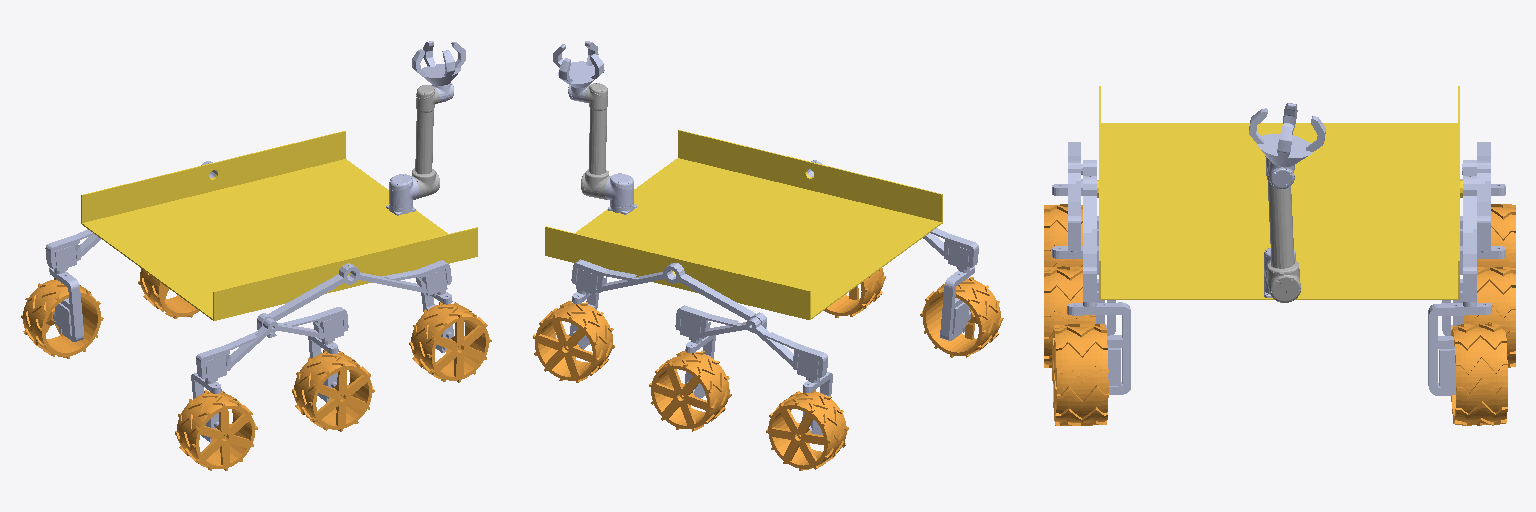
--- What the picture shows (computed from the rendered views, not written in the file) ---
The picture shows the robot from 3 angles, left to right: view 1: azimuth 30°, elevation 25°; view 2: azimuth 150°, elevation 25°; view 3: azimuth 270°, elevation 25°; orthographic projection.
Model vision1 with 18 links and 17 joints (5 revolute, 6 continuous, 6 fixed), rooted at dummylink, posed all joints at 0.
Visible links, largest first — view 1: chassis, right_front_wheel, right_back1, right_back2, right_back_legs, left_back2, right_main, left_back_legs, motor2, motor3, left_back1, motor1; view 2: chassis, left_front_wheel, left_back1, left_back2, left_back_legs, right_back2, left_main, right_back_legs, motor2, motor3, right_back1, motor1; view 3: chassis, right_front_wheel, left_front_wheel, motor2, motor3, left_back_legs, left_back1, right_back1, left_front_whlconnect, right_back_legs, right_front_whlconnect, right_main (+3 smaller).
Boxes of the visible links, bbox=[...] form: chassis: bbox=[81, 131, 477, 320]; right_front_wheel: bbox=[409, 302, 491, 382]; right_back1: bbox=[292, 350, 374, 431]; right_back2: bbox=[175, 390, 257, 470]; right_back_legs: bbox=[191, 307, 348, 442]; left_back2: bbox=[21, 278, 103, 358]; right_main: bbox=[257, 260, 451, 337]; left_back_legs: bbox=[45, 229, 100, 341]; motor2: bbox=[412, 85, 439, 199]; motor3: bbox=[412, 41, 465, 102]; left_back1: bbox=[138, 268, 198, 318]; motor1: bbox=[389, 174, 418, 208]; chassis: bbox=[545, 130, 942, 319]; left_front_wheel: bbox=[533, 301, 614, 382]; left_back1: bbox=[649, 351, 731, 431]; left_back2: bbox=[766, 390, 848, 470]; left_back_legs: bbox=[675, 305, 832, 434]; right_back2: bbox=[920, 277, 1003, 357]; left_main: bbox=[571, 259, 766, 333]; right_back_legs: bbox=[923, 228, 978, 340]; motor2: bbox=[581, 83, 609, 199]; motor3: bbox=[553, 41, 604, 102]; right_back1: bbox=[824, 268, 885, 317]; motor1: bbox=[605, 173, 633, 207]; chassis: bbox=[1097, 86, 1462, 299]; right_front_wheel: bbox=[1052, 324, 1108, 425]; left_front_wheel: bbox=[1451, 323, 1507, 425]; motor2: bbox=[1265, 156, 1300, 302]; motor3: bbox=[1249, 103, 1325, 188]; left_back_legs: bbox=[1442, 142, 1505, 335]; left_back1: bbox=[1464, 267, 1515, 367]; right_back1: bbox=[1044, 266, 1095, 367]; left_front_whlconnect: bbox=[1428, 303, 1491, 395]; right_back_legs: bbox=[1052, 142, 1115, 335]; right_front_whlconnect: bbox=[1067, 302, 1130, 394]; right_main: bbox=[1081, 160, 1096, 306].
Size in the robot's own frame: 3.27 by 2.73 by 2.5 metres.
17 mesh visuals loaded from 17 distinct referenced files (17 binary STL).

robot.urdf — vision1:
<?xml version="1.0" encoding="utf-8"?>
<!-- This URDF was automatically created by SolidWorks to URDF Exporter! Originally created by Stephen Brawner ([email redacted]) 
     Commit Version: 1.6.0-1-g15f4949  Build Version: 1.6.7594.29634
     For more information, please see http://wiki.ros.org/sw_urdf_exporter -->
<robot
  name="vision1">
  <link name="dummylink">
  </link>
  <joint name="dummyjoint" type="fixed">
    <parent link="dummylink"/>
    <child link="chassis"/>
  </joint>
  <link
    name="chassis">
    <inertial>
      <origin
        xyz="-6.67048457508904E-17 -9.65107136094099E-17 0.0301859526129163"
        rpy="0 0 0" />
      <mass
        value="75.3982945732463" />
      <inertia
        ixx="37.6875461543528"
        ixy="9.93243680911644E-16"
        ixz="-2.51115452539207E-15"
        iyy="36.4599738843757"
        iyz="1.69476198366275E-14"
        izz="73.6477332288632" />
    </inertial>
    <visual>
      <origin
        xyz="0 0 0"
        rpy="0 0 0" />
      <geometry>
        <mesh
          filename="package://vision1/meshes/chassis.STL" />
      </geometry>
      <material
        name="">
        <color
          rgba="1 0.886274509803922 0.309803921568627 1" />
      </material>
    </visual>
    <collision>
      <origin
        xyz="0 0 0"
        rpy="0 0 0" />
      <geometry>
        <mesh
          filename="package://vision1/meshes/chassis.STL" />
      </geometry>
    </collision>
  </link>
  <link
    name="left_main">
    <inertial>
      <origin
        xyz="-0.187587214227298 -0.193829326981754 0.103350542447008"
        rpy="0 0 0" />
      <mass
        value="11.5796588524314" />
      <inertia
        ixx="0.104962702548715"
        ixy="-0.23703186835524"
        ixz="0.0084157586236052"
        iyy="2.53477008510846"
        iyz="-0.000365251532953697"
        izz="2.62636682146623" />
    </inertial>
    <visual>
      <origin
        xyz="0 0 0"
        rpy="0 0 0" />
      <geometry>
        <mesh
          filename="package://vision1/meshes/left_main.STL" />
      </geometry>
      <material
        name="">
        <color
          rgba="0.792156862745098 0.819607843137255 0.933333333333333 1" />
      </material>
    </visual>
    <collision>
      <origin
        xyz="0 0 0"
        rpy="0 0 0" />
      <geometry>
        <mesh
          filename="package://vision1/meshes/left_main.STL" />
      </geometry>
    </collision>
  </link>
  <joint
    name="left_main_joint"
    type="fixed">
    <origin
      xyz="0 0.996 0.1527"
      rpy="1.5708 0.12191 -3.1416" />
    <parent
      link="chassis" />
    <child
      link="left_main" />
    <axis
      xyz="0 0 1" />
    
  </joint>
  <link
    name="left_front_whlconnect">
    <inertial>
      <origin
        xyz="0.0919368788373029 -0.303078537800269 2.97809443772223E-09"
        rpy="0 0 0" />
      <mass
        value="10.0922799476841" />
      <inertia
        ixx="0.180451958547416"
        ixy="0.021786782051187"
        ixz="1.11127781109166E-09"
        iyy="0.0734598583330053"
        iyz="5.98564580431109E-09"
        izz="0.239851150726298" />
    </inertial>
    <visual>
      <origin
        xyz="0 0 0"
        rpy="0 0 0" />
      <geometry>
        <mesh
          filename="package://vision1/meshes/left_front_whlconnect.STL" />
      </geometry>
      <material
        name="">
        <color
          rgba="0.792156862745098 0.819607843137255 0.933333333333333 1" />
      </material>
    </visual>
    <collision>
      <origin
        xyz="0 0 0"
        rpy="0 0 0" />
      <geometry>
        <mesh
          filename="package://vision1/meshes/left_front_whlconnect.STL" />
      </geometry>
    </collision>
  </link>
  <joint
    name="left_front_whlconnect_joint"
    type="revolute">
    <origin
      xyz="-0.7809 -0.46022 0.104"
      rpy="3.1416 1.5062 3.1416" />
    <parent
      link="left_main" />
    <child
      link="left_front_whlconnect" />
    <axis
      xyz="0 1 0" />
    <limit
      lower="-1.0"
      upper="1.0"
      effort="100"
      velocity="10" />
  </joint>
  <link
    name="left_front_wheel">
    <inertial>
      <origin
        xyz="-0.0726272967322998 2.22044604925031E-16 2.72004641033163E-14"
        rpy="0 0 0" />
      <mass
        value="24.6135816790046" />
      <inertia
        ixx="1.49233859783078"
        ixy="-5.42488484689407E-11"
        ixz="-5.59634307211593E-11"
        iyy="0.941453197285766"
        iyz="5.63490904327904E-14"
        izz="0.941453197282353" />
    </inertial>
    <visual>
      <origin
        xyz="0 0 0"
        rpy="0 0 0" />
      <geometry>
        <mesh
          filename="package://vision1/meshes/left_front_wheel.STL" />
      </geometry>
      <material
        name="">
        <color
          rgba="1 0.698039215686274 0.309803921568627 1" />
      </material>
    </visual>
    <collision>
      <origin
        xyz="0 0 0"
        rpy="0 0 0" />
      <geometry>
        <mesh
          filename="package://vision1/meshes/left_front_wheel.STL" />
      </geometry>
    </collision>
  </link>
  <joint
    name="left_front_wheel_joint"
    type="continuous">
    <origin
      xyz="0 -0.41728 0"
      rpy="1.6033 0 0" />
    <parent
      link="left_front_whlconnect" />
    <child
      link="left_front_wheel" />
    <axis
      xyz="-1 0 0" />
  </joint>
  <link
    name="left_back_legs">
    <inertial>
      <origin
        xyz="-0.0281794914958189 -0.437137445244157 -0.127486719946212"
        rpy="0 0 0" />
      <mass
        value="32.7717928965034" />
      <inertia
        ixx="0.528659762782787"
        ixy="-0.00168610358511945"
        ixz="-2.39425252627351E-09"
        iyy="1.30533722923111"
        iyz="0.0435729279584516"
        izz="1.55489620389252" />
    </inertial>
    <visual>
      <origin
        xyz="0 0 0"
        rpy="0 0 0" />
      <geometry>
        <mesh
          filename="package://vision1/meshes/left_back_legs.STL" />
      </geometry>
      <material
        name="">
        <color
          rgba="0.792156862745098 0.819607843137255 0.933333333333333 1" />
      </material>
    </visual>
    <collision>
      <origin
        xyz="0 0 0"
        rpy="0 0 0" />
      <geometry>
        <mesh
          filename="package://vision1/meshes/left_back_legs.STL" />
      </geometry>
    </collision>
  </link>
  <joint
    name="left_back_legs_joint"
    type="fixed">
    <origin
      xyz="0.787846202409768 -0.138918542133536 0"
      rpy="3.14159265358979 0 -3.11008088957071" />
    <parent
      link="left_main" />
    <child
      link="left_back_legs" />
    <axis
      xyz="0 0 1" />
    
  </joint>
  <link
    name="left_back1">
    <inertial>
      <origin
        xyz="-0.169127296732301 1.11022302462516E-15 -4.9293902293357E-14"
        rpy="0 0 0" />
      <mass
        value="24.6135816790047" />
      <inertia
        ixx="1.49233859783079"
        ixy="5.42400245263348E-11"
        ixz="5.59704961659011E-11"
        iyy="0.941453197285768"
        iyz="5.79536418854332E-14"
        izz="0.941453197282358" />
    </inertial>
    <visual>
      <origin
        xyz="0 0 0"
        rpy="0 0 0" />
      <geometry>
        <mesh
          filename="package://vision1/meshes/left_back1.STL" />
      </geometry>
      <material
        name="">
        <color
          rgba="1 0.698039215686274 0.309803921568627 1" />
      </material>
    </visual>
    <collision>
      <origin
        xyz="0 0 0"
        rpy="0 0 0" />
      <geometry>
        <mesh
          filename="package://vision1/meshes/left_back1.STL" />
      </geometry>
    </collision>
  </link>
  <joint
    name="left_back1_joint"
    type="continuous">
    <origin
      xyz="0.489099860471848 -0.73355703444109 -0.0675004913212019"
      rpy="0.550131778527197 -1.5707963267949 0" />
    <parent
      link="left_back_legs" />
    <child
      link="left_back1" />
    <axis
      xyz="-1 0 0" />
  </joint>
  <link
    name="left_back2">
    <inertial>
      <origin
        xyz="-0.1691272967323 4.10782519111308E-15 -2.66453525910038E-14"
        rpy="0 0 0" />
      <mass
        value="24.6135816790048" />
      <inertia
        ixx="1.49233859783079"
        ixy="4.33631821911831E-11"
        ixz="6.47740021097192E-11"
        iyy="0.941453197285644"
        iyz="6.52568277192955E-13"
        izz="0.941453197282488" />
    </inertial>
    <visual>
      <origin
        xyz="0 0 0"
        rpy="0 0 0" />
      <geometry>
        <mesh
          filename="package://vision1/meshes/left_back2.STL" />
      </geometry>
      <material
        name="">
        <color
          rgba="1 0.698039215686274 0.309803921568627 1" />
      </material>
    </visual>
    <collision>
      <origin
        xyz="0 0 0"
        rpy="0 0 0" />
      <geometry>
        <mesh
          filename="package://vision1/meshes/left_back2.STL" />
      </geometry>
    </collision>
  </link>
  <joint
    name="left_back2_joint"
    type="continuous">
    <origin
      xyz="-0.5789 -0.73356 -0.0675"
      rpy="0.18028 -1.5708 0" />
    <parent
      link="left_back_legs" />
    <child
      link="left_back2" />
    <axis
      xyz="-1 0 0" />
  </joint>
  <link
    name="right_main">
    <inertial>
      <origin
        xyz="-0.187587214227297 -0.193829326981754 -0.0406494575529919"
        rpy="0 0 0" />
      <mass
        value="11.5796588524314" />
      <inertia
        ixx="0.104962702548715"
        ixy="-0.23703186835524"
        ixz="0.00841575862360529"
        iyy="2.53477008510846"
        iyz="-0.000365251532953653"
        izz="2.62636682146623" />
    </inertial>
    <visual>
      <origin
        xyz="0 0 0"
        rpy="0 0 0" />
      <geometry>
        <mesh
          filename="package://vision1/meshes/right_main.STL" />
      </geometry>
      <material
        name="">
        <color
          rgba="0.792156862745098 0.819607843137255 0.933333333333333 1" />
      </material>
    </visual>
    <collision>
      <origin
        xyz="0 0 0"
        rpy="0 0 0" />
      <geometry>
        <mesh
          filename="package://vision1/meshes/right_main.STL" />
      </geometry>
    </collision>
  </link>
  <joint
    name="right_main_joint"
    type="fixed">
    <origin
      xyz="0 -1.06 0.152698331709587"
      rpy="1.5707963267949 0.121907833439833 -3.14159265358979" />
    <parent
      link="chassis" />
    <child
      link="right_main" />
    <axis
      xyz="0 0 -1" />
    <limit
      lower="0"
      upper="0.5"
      effort="100"
      velocity="10" />
  </joint>
  <link
    name="right_front_whlconnect">
    <inertial>
      <origin
        xyz="0.0919368788373003 -0.303078537800282 2.97808799842869E-09"
        rpy="0 0 0" />
      <mass
        value="10.0922799476844" />
      <inertia
        ixx="0.180451958547417"
        ixy="0.0217867820511865"
        ixz="1.1112765430088E-09"
        iyy="0.0734598583330069"
        iyz="5.98564286026851E-09"
        izz="0.2398511507263" />
    </inertial>
    <visual>
      <origin
        xyz="0 0 0"
        rpy="0 0 0" />
      <geometry>
        <mesh
          filename="package://vision1/meshes/right_front_whlconnect.STL" />
      </geometry>
      <material
        name="">
        <color
          rgba="0.792156862745098 0.819607843137255 0.933333333333333 1" />
      </material>
    </visual>
    <collision>
      <origin
        xyz="0 0 0"
        rpy="0 0 0" />
      <geometry>
        <mesh
          filename="package://vision1/meshes/right_front_whlconnect.STL" />
      </geometry>
    </collision>
  </link>
  <joint
    name="right_front_whlconnect_joint"
    type="revolute">
    <origin
      xyz="-0.780900139528152 -0.460215775817232 -0.0400004913212026"
      rpy="0 -1.52350221998585 0" />
    <parent
      link="right_main" />
    <child
      link="right_front_whlconnect" />
    <axis
      xyz="0 1 0" />
    <limit
      lower="-1.0"
      upper="1.0"
      effort="100"
      velocity="10" />
  </joint>
  <link
    name="right_front_wheel">
    <inertial>
      <origin
        xyz="-0.072627296732299 1.11022302462516E-15 2.81025203108243E-14"
        rpy="0 0 0" />
      <mass
        value="24.6135816790047" />
      <inertia
        ixx="1.49233859783079"
        ixy="-5.42478666154533E-11"
        ixz="-5.59715190862065E-11"
        iyy="0.94145319728577"
        iyz="5.77471013715747E-14"
        izz="0.941453197282356" />
    </inertial>
    <visual>
      <origin
        xyz="0 0 0"
        rpy="0 0 0" />
      <geometry>
        <mesh
          filename="package://vision1/meshes/right_front_wheel.STL" />
      </geometry>
      <material
        name="">
        <color
          rgba="1 0.698039215686274 0.309803921568627 1" />
      </material>
    </visual>
    <collision>
      <origin
        xyz="0 0 0"
        rpy="0 0 0" />
      <geometry>
        <mesh
          filename="package://vision1/meshes/right_front_wheel.STL" />
      </geometry>
    </collision>
  </link>
  <joint
    name="right_front_wheel_joint"
    type="continuous">
    <origin
      xyz="0 -0.417276705070479 0"
      rpy="-0.91003225529218 0 0" />
    <parent
      link="right_front_whlconnect" />
    <child
      link="right_front_wheel" />
    <axis
      xyz="1 0 0" />
  </joint>
  <link
    name="right_back_legs">
    <inertial>
      <origin
        xyz="-0.0281794878273326 -0.437137445244157 0.0712631174309957"
        rpy="0 0 0" />
      <mass
        value="32.7717928965034" />
      <inertia
        ixx="0.528659762782786"
        ixy="-0.0016860796425448"
        ixz="-2.39425198417242E-09"
        iyy="1.3053372292311"
        iyz="-0.0435742002462945"
        izz="1.55489620389252" />
    </inertial>
    <visual>
      <origin
        xyz="0 0 0"
        rpy="0 0 0" />
      <geometry>
        <mesh
          filename="package://vision1/meshes/right_back_legs.STL" />
      </geometry>
      <material
        name="">
        <color
          rgba="0.792156862745098 0.819607843137255 0.933333333333333 1" />
      </material>
    </visual>
    <collision>
      <origin
        xyz="0 0 0"
        rpy="0 0 0" />
      <geometry>
        <mesh
          filename="package://vision1/meshes/right_back_legs.STL" />
      </geometry>
    </collision>
  </link>
  <joint
    name="right_back_legs_joint"
    type="fixed">
    <origin
      xyz="0.787846202409768 -0.138918542133536 0"
      rpy="3.14159265358979 0 -3.11008088957079" />
    <parent
      link="right_main" />
    <child
      link="right_back_legs" />
    <axis
      xyz="0 0 1" />
    
  </joint>
  <link
    name="right_back1">
    <inertial>
      <origin
        xyz="-0.169127296732299 -1.15463194561016E-14 3.37507799486048E-14"
        rpy="0 0 0" />
      <mass
        value="24.6135816790047" />
      <inertia
        ixx="1.49233859783079"
        ixy="-5.42406314479416E-11"
        ixz="-5.59701606763816E-11"
        iyy="0.941453197285769"
        iyz="5.6621374255883E-14"
        izz="0.941453197282355" />
    </inertial>
    <visual>
      <origin
        xyz="0 0 0"
        rpy="0 0 0" />
      <geometry>
        <mesh
          filename="package://vision1/meshes/right_back1.STL" />
      </geometry>
      <material
        name="">
        <color
          rgba="1 0.698039215686274 0.309803921568627 1" />
      </material>
    </visual>
    <collision>
      <origin
        xyz="0 0 0"
        rpy="0 0 0" />
      <geometry>
        <mesh
          filename="package://vision1/meshes/right_back1.STL" />
      </geometry>
    </collision>
  </link>
  <joint
    name="right_back1_joint"
    type="continuous">
    <origin
      xyz="0.489099860471849 -0.733557034441089 0.00149950867879678"
      rpy="1.16753517553023 1.5707963267949 0" />
    <parent
      link="right_back_legs" />
    <child
      link="right_back1" />
    <axis
      xyz="1 0 0" />
  </joint>
  <link
    name="right_back2">
    <inertial>
      <origin
        xyz="-0.1691272967323 1.85422410758918E-09 7.76871900143306E-11"
        rpy="0 0 0" />
      <mass
        value="24.6135816790047" />
      <inertia
        ixx="1.49233859783079"
        ixy="-6.09386535568011E-09"
        ixz="-3.08930789097044E-10"
        iyy="0.941453197285773"
        iyz="5.94533361530391E-14"
        izz="0.941453197282358" />
    </inertial>
    <visual>
      <origin
        xyz="0 0 0"
        rpy="0 0 0" />
      <geometry>
        <mesh
          filename="package://vision1/meshes/right_back2.STL" />
      </geometry>
      <material
        name="">
        <color
          rgba="1 0.698039215686274 0.309803921568627 1" />
      </material>
    </visual>
    <collision>
      <origin
        xyz="0 0 0"
        rpy="0 0 0" />
      <geometry>
        <mesh
          filename="package://vision1/meshes/right_back2.STL" />
      </geometry>
    </collision>
  </link>
  <joint
    name="right_back2_joint"
    type="continuous">
    <origin
      xyz="-0.578900139528151 -0.73355703444109 0.00149950867879678"
      rpy="0.0499724498475259 1.5707963267949 0" />
    <parent
      link="right_back_legs" />
    <child
      link="right_back2" />
    <axis
      xyz="1 0 0" />
  </joint>
  <link
    name="manipulator_base">
    <inertial>
      <origin
        xyz="6.99102964922223E-06 0.0184354408078916 0.000159353466286261"
        rpy="0 0 0" />
      <mass
        value="1.37953968759469" />
      <inertia
        ixx="0.0035265384613163"
        ixy="2.40342098945956E-07"
        ixz="-1.46510077494015E-07"
        iyy="0.00649710141935057"
        iyz="-6.08962678355607E-07"
        izz="0.00349684266480233" />
    </inertial>
    <visual>
      <origin
        xyz="0 0 0"
        rpy="0 0 0" />
      <geometry>
        <mesh
          filename="package://vision1/meshes/manipulator_base.STL" />
      </geometry>
      <material
        name="">
        <color
          rgba="0.792156862745098 0.819607843137255 0.933333333333333 1" />
      </material>
    </visual>
    <collision>
      <origin
        xyz="0 0 0"
        rpy="0 0 0" />
      <geometry>
        <mesh
          filename="package://vision1/meshes/manipulator_base.STL" />
      </geometry>
    </collision>
  </link>
  <joint
    name="manipulator_base_joint"
    type="fixed">
    <origin
      xyz="1.10476444145715 0 0.0173071919115596"
      rpy="1.5707963267949 0 1.5707963267949" />
    <parent
      link="chassis" />
    <child
      link="manipulator_base" />
    <axis
      xyz="0 0 0" />
  </joint>
  <link
    name="motor1">
    <inertial>
      <origin
        xyz="3.29536758787718E-06 0.130986521289339 -0.0144792084589447"
        rpy="0 0 0" />
      <mass
        value="6.00302462460103" />
      <inertia
        ixx="0.035025387809049"
        ixy="-3.04848720836574E-06"
        ixz="6.90689798253695E-07"
        iyy="0.0308829833133846"
        iyz="0.0026200542648932"
        izz="0.0327045356190031" />
    </inertial>
    <visual>
      <origin
        xyz="0 0 0"
        rpy="0 0 0" />
      <geometry>
        <mesh
          filename="package://vision1/meshes/motor1.STL" />
      </geometry>
      <material
        name="">
        <color
          rgba="0.792156862745098 0.819607843137255 0.933333333333333 1" />
      </material>
    </visual>
    <collision>
      <origin
        xyz="0 0 0"
        rpy="0 0 0" />
      <geometry>
        <mesh
          filename="package://vision1/meshes/motor1.STL" />
      </geometry>
    </collision>
  </link>
  <joint
    name="motor1_joint"
    type="revolute">
    <origin
      xyz="0 0.01 0"
      rpy="3.14159265358979 -0.107234786070816 3.14159265358979" />
    <parent
      link="manipulator_base" />
    <child
      link="motor1" />
    <axis
      xyz="0 1 0" />
    <limit
      lower="-3.14"
      upper="3.14"
      effort="100"
      velocity="10" />
  </joint>
  <link
    name="motor2">
    <inertial>
      <origin
        xyz="0.0993313193322516 0.301282797125642 -0.0888744458903575"
        rpy="0 0 0" />
      <mass
        value="17.0164903741412" />
      <inertia
        ixx="0.289942203754201"
        ixy="0.00274423220260284"
        ixz="-0.000215137998023459"
        iyy="0.0751805407800863"
        iyz="0.0566445339756234"
        izz="0.279895917847063" />
    </inertial>
    <visual>
      <origin
        xyz="0 0 0"
        rpy="0 0 0" />
      <geometry>
        <mesh
          filename="package://vision1/meshes/motor2.STL" />
      </geometry>
      <material
        name="">
        <color
          rgba="0.752941176470588 0.752941176470588 0.752941176470588 1" />
      </material>
    </visual>
    <collision>
      <origin
        xyz="0 0 0"
        rpy="0 0 0" />
      <geometry>
        <mesh
          filename="package://vision1/meshes/motor2.STL" />
      </geometry>
    </collision>
  </link>
  <joint
    name="motor2_joint"
    type="revolute">
    <origin
      xyz="0 0.14251 -0.10664"
      rpy="0 1.4636 -0.2937" />
    <parent
      link="motor1" />
    <child
      link="motor2" />
    <axis
      xyz="0.99426 0 -0.10703" />
    <limit
      lower="-3.14"
      upper="3.14"
      effort="100"
      velocity="10" />
  </joint>
  <link
    name="motor3">
    <inertial>
      <origin
        xyz="2.50985222405298E-06 0.14601062513625 0.162369115763925"
        rpy="0 0 0" />
      <mass
        value="9.59690667249651" />
      <inertia
        ixx="0.169816438571014"
        ixy="3.26085813121685E-06"
        ixz="1.00534544886233E-06"
        iyy="0.130137949611244"
        iyz="-0.0027332362396029"
        izz="0.169565077733242" />
    </inertial>
    <visual>
      <origin
        xyz="0 0 0"
        rpy="0 0 0" />
      <geometry>
        <mesh
          filename="package://vision1/meshes/motor3.STL" />
      </geometry>
      <material
        name="">
        <color
          rgba="0.792156862745098 0.819607843137255 0.933333333333333 1" />
      </material>
    </visual>
    <collision>
      <origin
        xyz="0 0 0"
        rpy="0 0 0" />
      <geometry>
        <mesh
          filename="package://vision1/meshes/motor3.STL" />
      </geometry>
    </collision>
  </link>
  <joint
    name="motor3_joint"
    type="revolute">
    <origin
      xyz="0.081311 0.74119 -0.20118"
      rpy="-1.8069 1.1343 -1.7834" />
    <parent
      link="motor2" />
    <child
      link="motor3" />
    <axis
      xyz="0 0 1" />
    <limit
      lower="-3.14"
      upper="3.14"
      effort="100"
      velocity="10" />
  </joint>
  <transmission name="simple_trans1">
    <type>transmission_interface/SimpleTransmission</type>
    <joint name="right_front_whlconnect_joint">
      <hardwareInterface>EffortJointInterface</hardwareInterface>
    </joint>
    <actuator name="right_front_whlconnect_act">
      <mechanicalReduction>50</mechanicalReduction>
      <hardwareInterface>EffortJointInterface</hardwareInterface>
    </actuator>
  </transmission>
  
  <transmission name="simple_trans2">
    <type>transmission_interface/SimpleTransmission</type>
    <joint name="right_back1_joint">
      <hardwareInterface>VelocityJointInterface</hardwareInterface>
    </joint>
    <actuator name="right_back1_act">
      <mechanicalReduction>50</mechanicalReduction>
      <hardwareInterface>VelocityJointInterface</hardwareInterface>
    </actuator>
  </transmission>
 
  
 
  
  <transmission name="simple_trans3">
    <type>transmission_interface/SimpleTransmission</type>
    <joint name="right_back2_joint">
      <hardwareInterface>VelocityJointInterface</hardwareInterface>
    </joint>
    <actuator name="right_back2_act">
      <mechanicalReduction>50</mechanicalReduction>
      <hardwareInterface>VelocityJointInterface</hardwareInterface>
    </actuator>
  </transmission>
  
  
  
  <transmission name="simple_trans4">
    <type>transmission_interface/SimpleTransmission</type>
    <joint name="left_front_whlconnect_joint">
      <hardwareInterface>EffortJointInterface</hardwareInterface>
    </joint>
    <actuator name="left_front_whlconnect_act">
      <mechanicalReduction>50</mechanicalReduction>
      <hardwareInterface>EffortJointInterface</hardwareInterface>
    </actuator>
  </transmission>
  
  <transmission name="simple_trans5">
    <type>transmission_interface/SimpleTransmission</type>
    <joint name="left_back1_joint">
      <hardwareInterface>VelocityJointInterface</hardwareInterface>
    </joint>
    <actuator name="left_back1_act">
      <mechanicalReduction>50</mechanicalReduction>
      <hardwareInterface>VelocityJointInterface</hardwareInterface>
    </actuator>
  </transmission>
 
  
  <transmission name="simple_trans6">
    <type>transmission_interface/SimpleTransmission</type>
    <joint name="left_back2_joint">
      <hardwareInterface>VelocityJointInterface</hardwareInterface>
    </joint>
    <actuator name="left_back2_act">
      <mechanicalReduction>50</mechanicalReduction>
      <hardwareInterface>VelocityJointInterface</hardwareInterface>
    </actuator>
  </transmission>
  
  <transmission name="simple_trans9">
    <type>transmission_interface/SimpleTransmission</type>
    <joint name="motor1_joint">
      <hardwareInterface>EffortJointInterface</hardwareInterface>
    </joint>
    <actuator name="motor1_act">
      <mechanicalReduction>50</mechanicalReduction>
      <hardwareInterface>EffortJointInterface</hardwareInterface>
    </actuator>
  </transmission>
  <transmission name="simple_trans10">
    <type>transmission_interface/SimpleTransmission</type>
    <joint name="motor2_joint">
      <hardwareInterface>EffortJointInterface</hardwareInterface>
    </joint>
    <actuator name="motor2_act">
      <mechanicalReduction>50</mechanicalReduction>
      <hardwareInterface>EffortJointInterface</hardwareInterface>
    </actuator>
  </transmission>
 
  
  <transmission name="simple_trans11">
    <type>transmission_interface/SimpleTransmission</type>
    <joint name="motor3_joint">
      <hardwareInterface>EffortJointInterface</hardwareInterface>
    </joint>
    <actuator name="motor3_act">
      <mechanicalReduction>50</mechanicalReduction>
      <hardwareInterface>EffortJointInterface</hardwareInterface>
    </actuator>
  </transmission>
  <gazebo>
    <plugin name="gazebo_ros_control" filename="libgazebo_ros_control.so">
      <robotNamespace>/vision1</robotNamespace>
      <robotSimType>gazebo_ros_control/DefaultRobotHWSim </robotSimType>
      <legacyModeNS>true</legacyModeNS>
    </plugin>
  </gazebo>
</robot>
